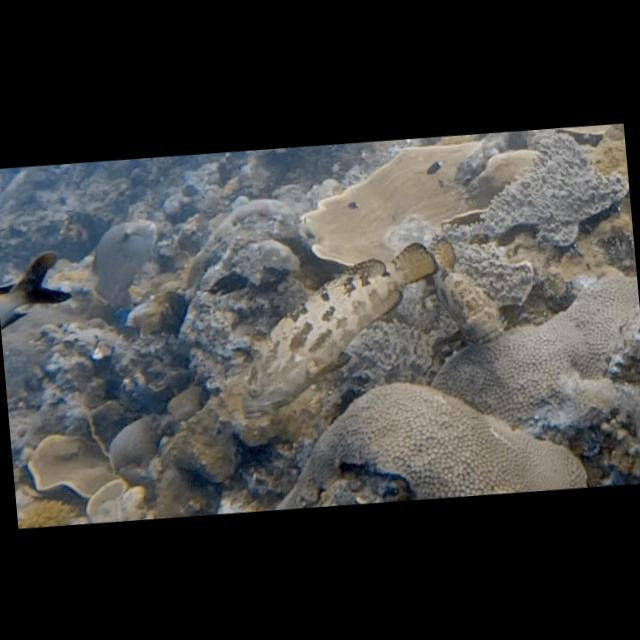Groupers: (226, 236, 450, 423)
